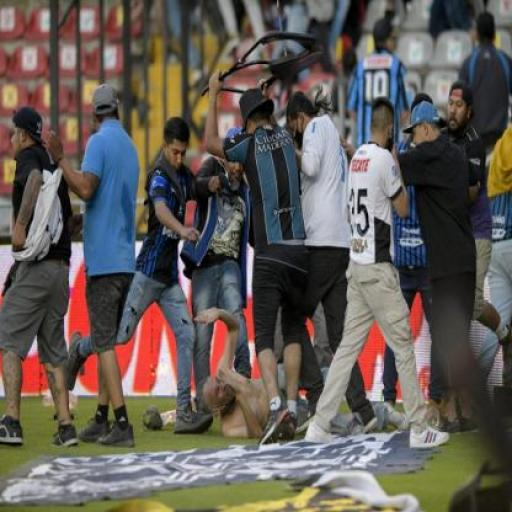Fighting: (139, 71, 512, 464)
